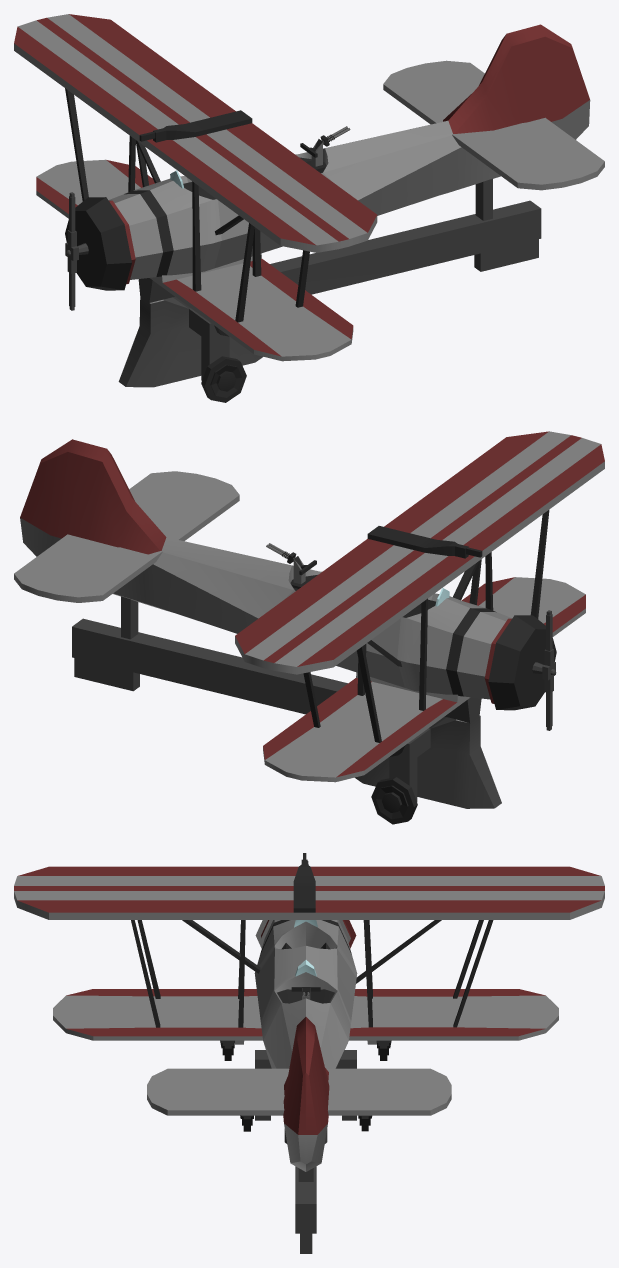
Rendered from FMP_Plane_&_Catapult_Shaded.fbx.
The picture shows the model from 3 angles, top to bottom: view 1: azimuth 30°, elevation 25°; view 2: azimuth 150°, elevation 25°; view 3: azimuth 270°, elevation 25°; orthographic projection. The views are drawn at different scales.
Visible parts, largest first — view 1: polySurface494; view 2: polySurface494; view 3: polySurface494.
Part boxes in pixels (bbox=[...]): polySurface494: bbox=[14, 14, 604, 402]; polySurface494: bbox=[14, 431, 604, 824]; polySurface494: bbox=[14, 853, 604, 1253].
Bounding box in the file's own units: 265 × 131 × 266.
